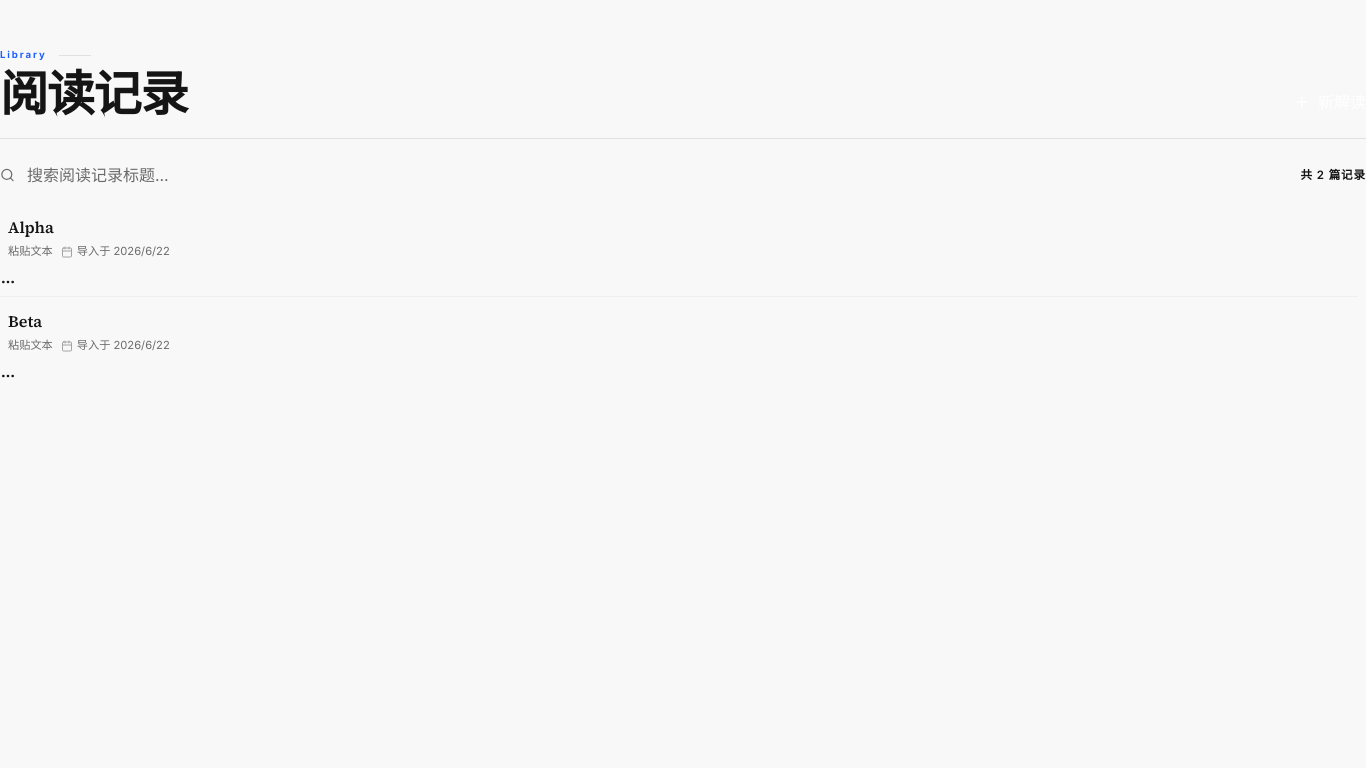
Scenario: LibraryClient delete lifecycle › removes only the matching result while searching
This screenshot has width=1366, height=768.
Step 1. Type "Beta" into the field labelled "搜索阅读记录标题" → {"x": 205, "y": 175}, box [27,163,384,187]
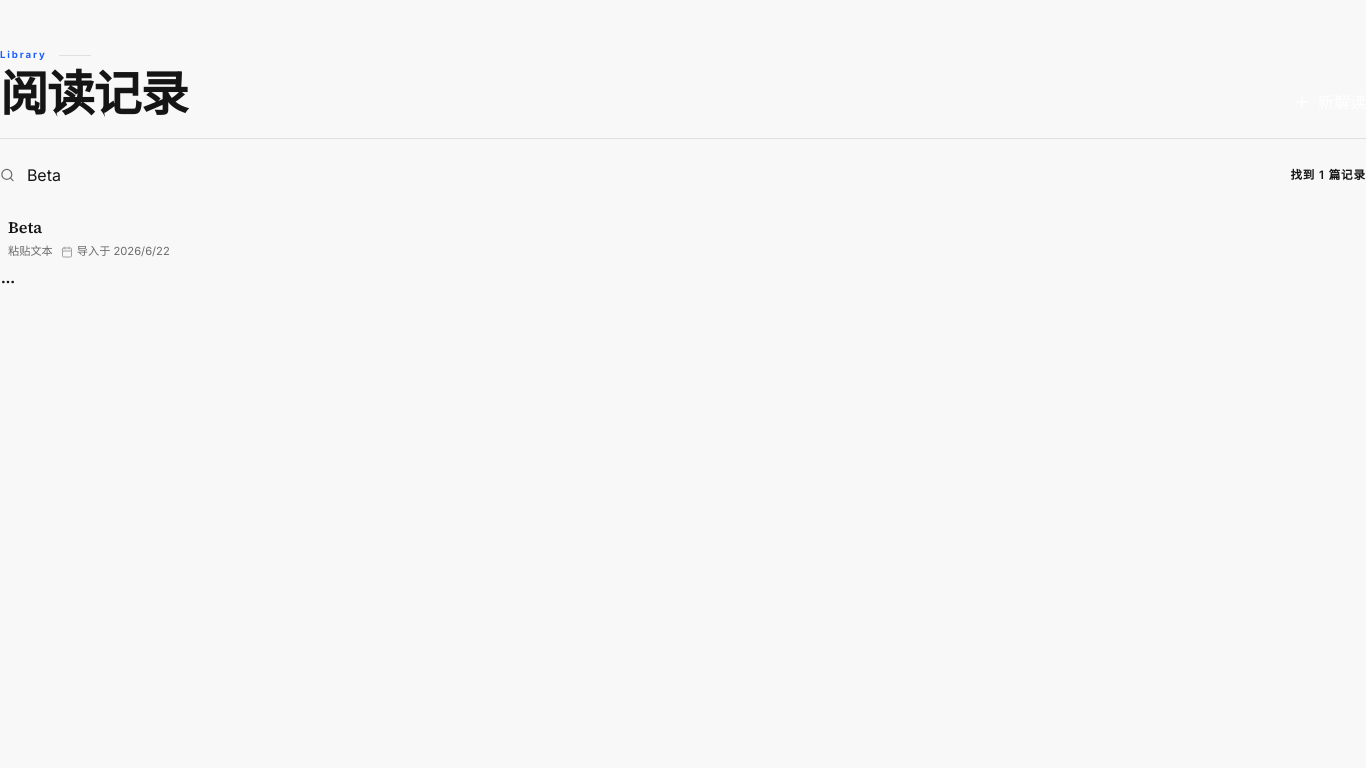
Check: the text "Beta" is shown, box [8,216,42,238]
Check: the link "Alpha" is gone
Step 2. Click the button named "打开“Beta”的操作菜单" → {"x": 8, "y": 282}, box [0,274,16,290]
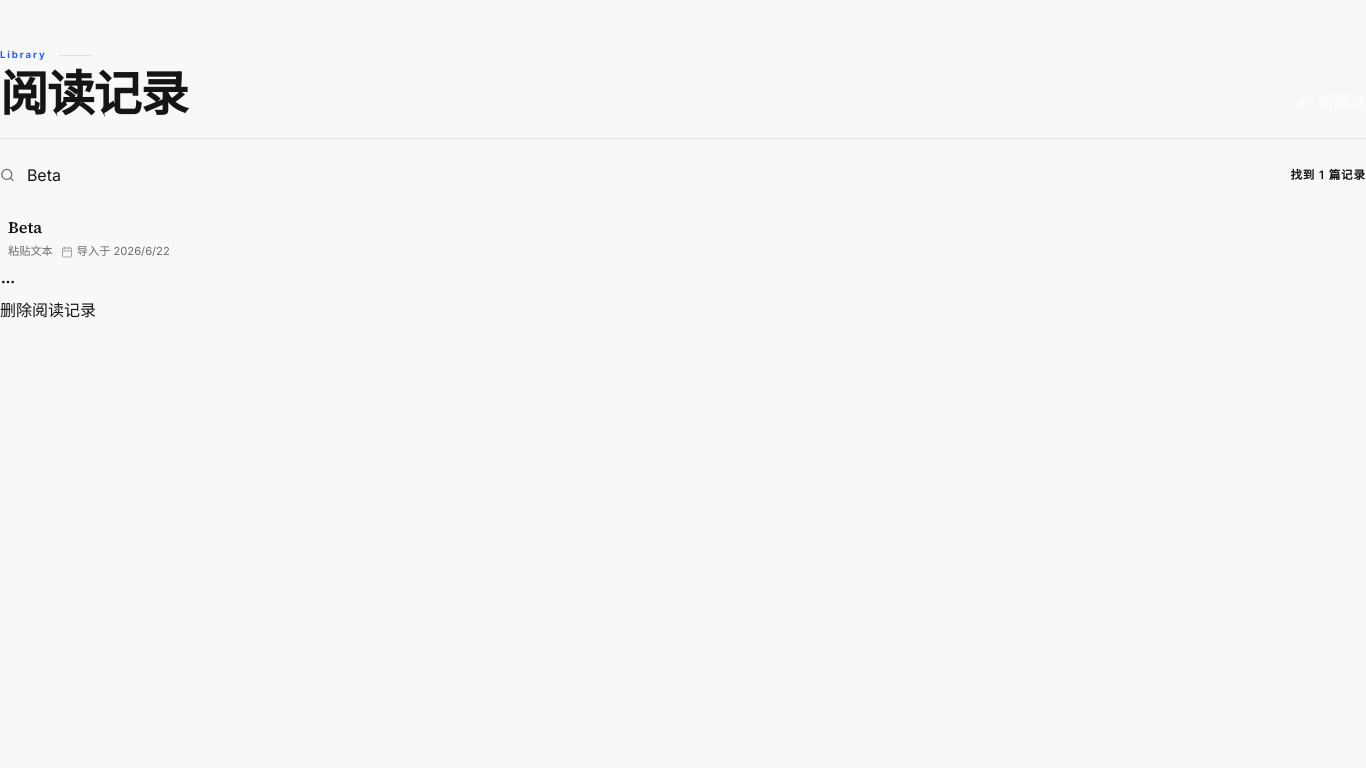
Check: the menu is shown
Step 3. Click the menu item "删除阅读记录" → {"x": 48, "y": 310}, box [0,298,96,322]
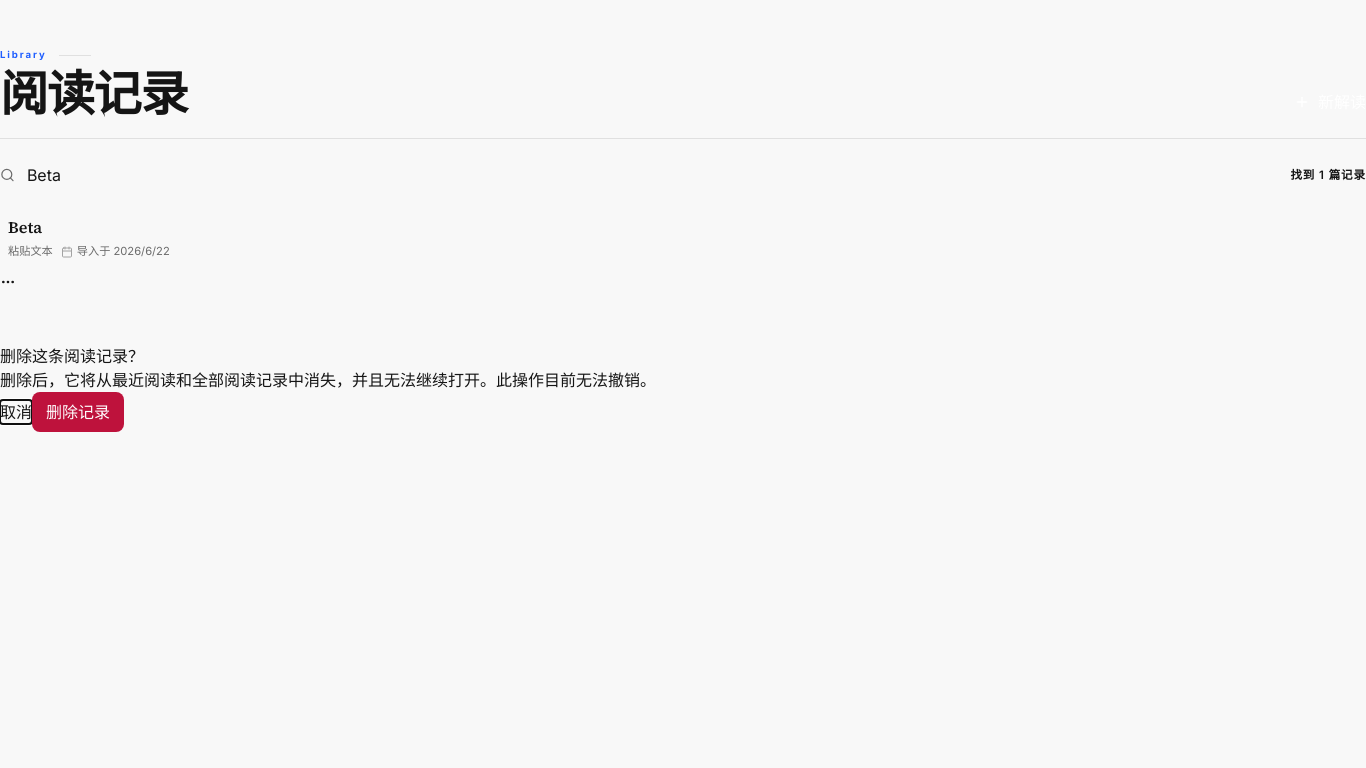
Check: the dialog is shown, box [0,346,656,432]
Step 4. Click the button "删除记录" → {"x": 78, "y": 412}, box [32,392,124,432]
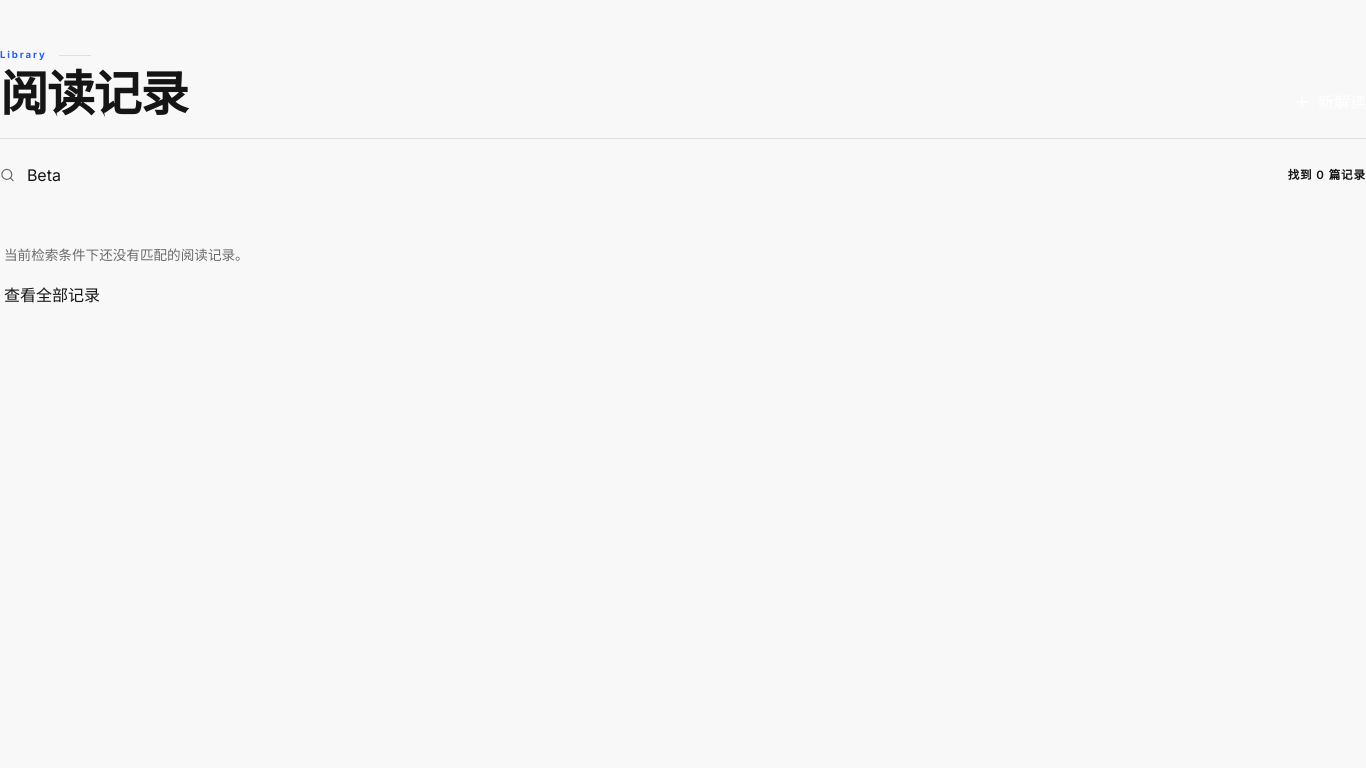
Check: the text "找到 0 篇记录" is shown, box [1288,167,1365,184]
